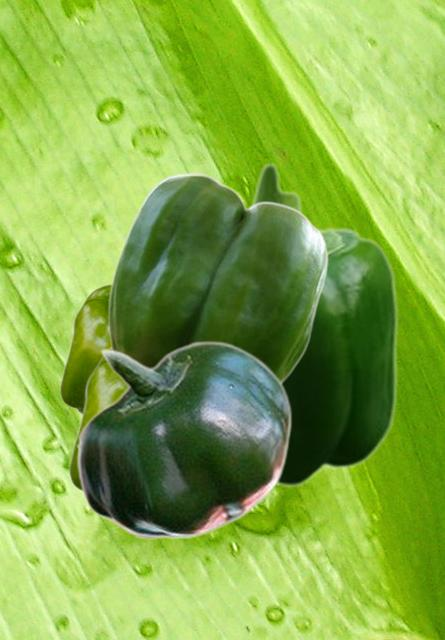bell_pepper: (248, 161, 398, 488), (107, 172, 327, 382), (75, 340, 291, 538), (68, 347, 124, 493), (59, 283, 109, 414)
